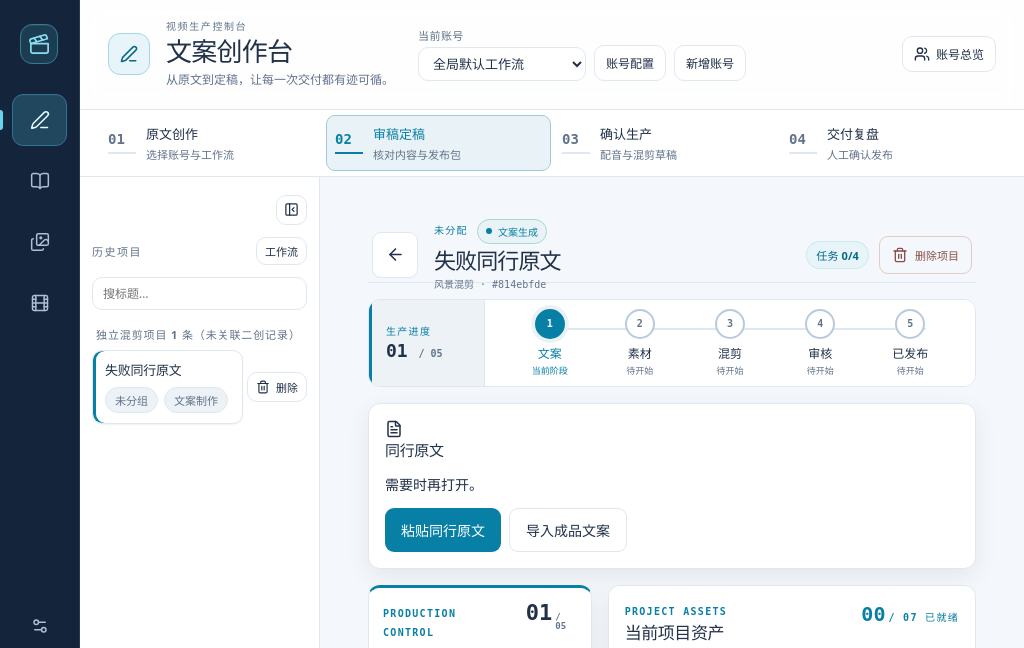
Test: does not create a remix task when source script upload fails
The width and height of the screenshot is (1024, 648).
Click the button "粘贴同行原文" at point(443, 530), box x1=385 y1=508 x2=501 y2=552
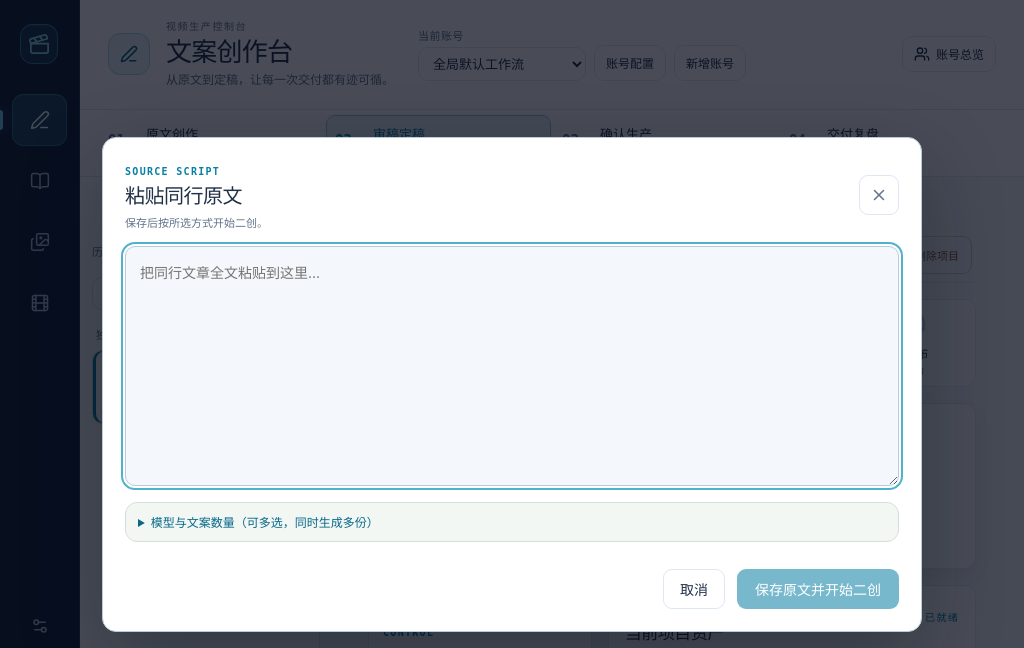
Type "正文" into the text box named "同行原文" at point(512, 366), box x1=125 y1=246 x2=899 y2=486
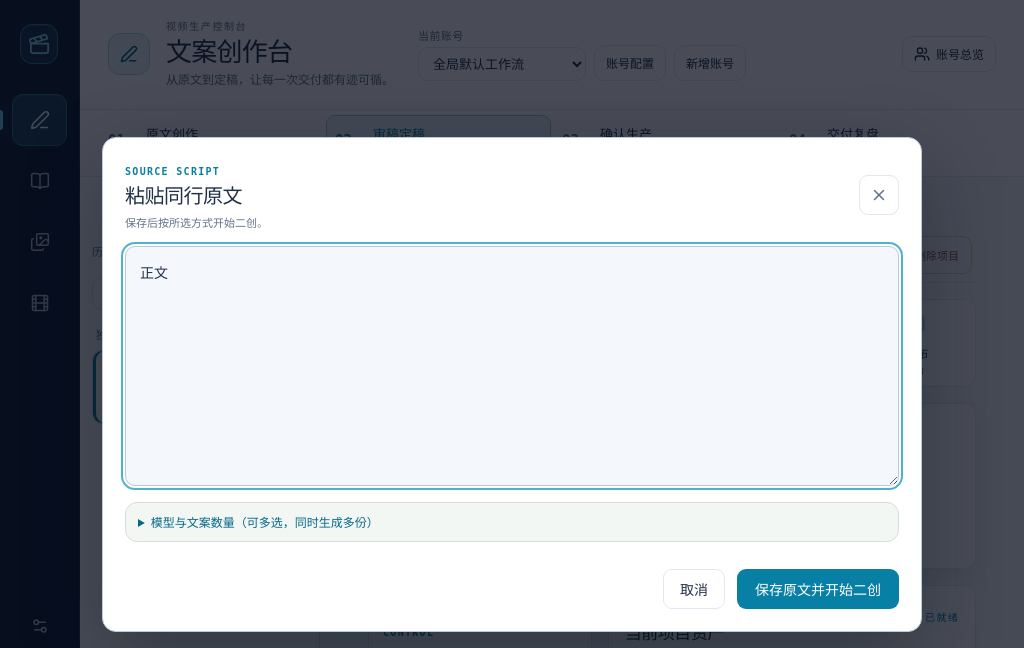
Click the button "保存原文并开始二创" at point(818, 588), box x1=737 y1=568 x2=899 y2=608
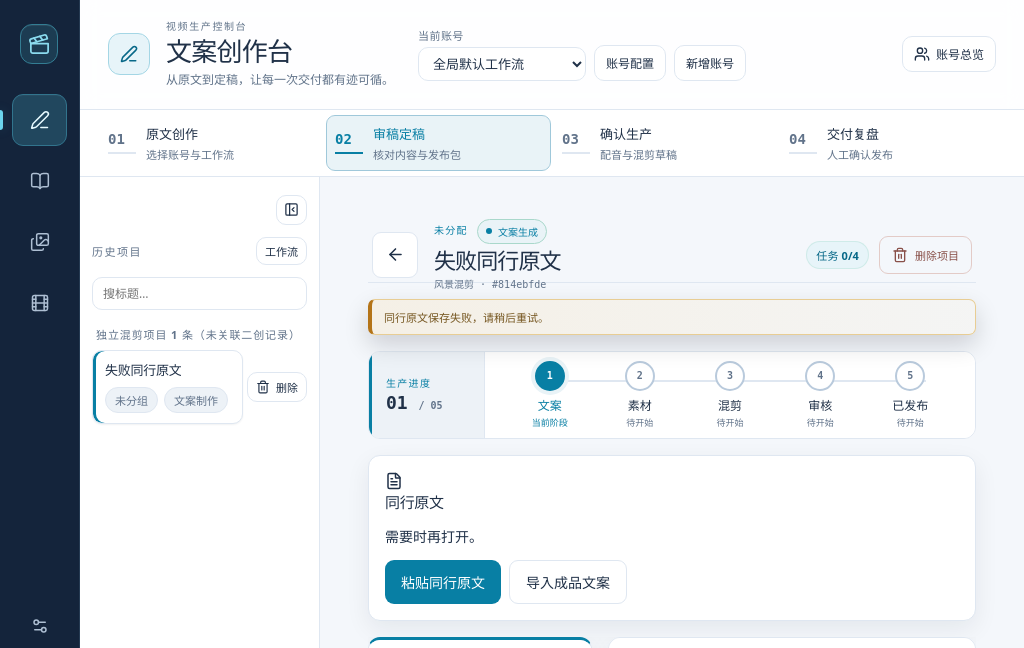
Now the text "同行原文保存失败，请稍后重试。" is shown, box x1=368 y1=299 x2=976 y2=335
